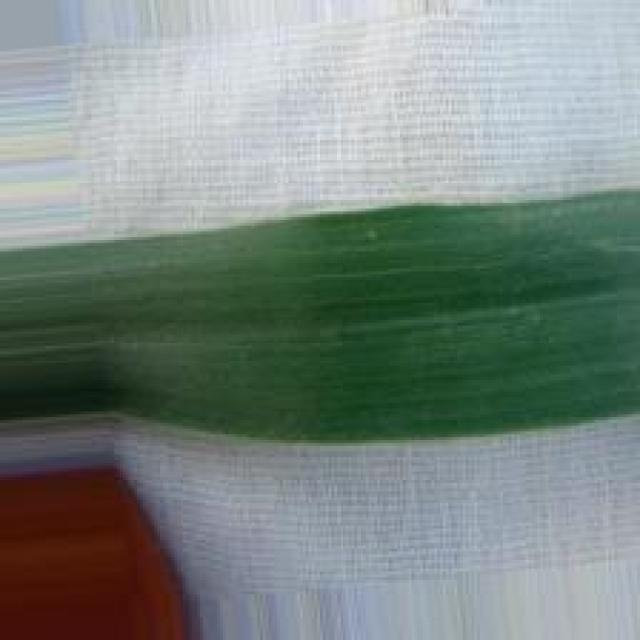Healthy: (0, 188, 640, 447)
